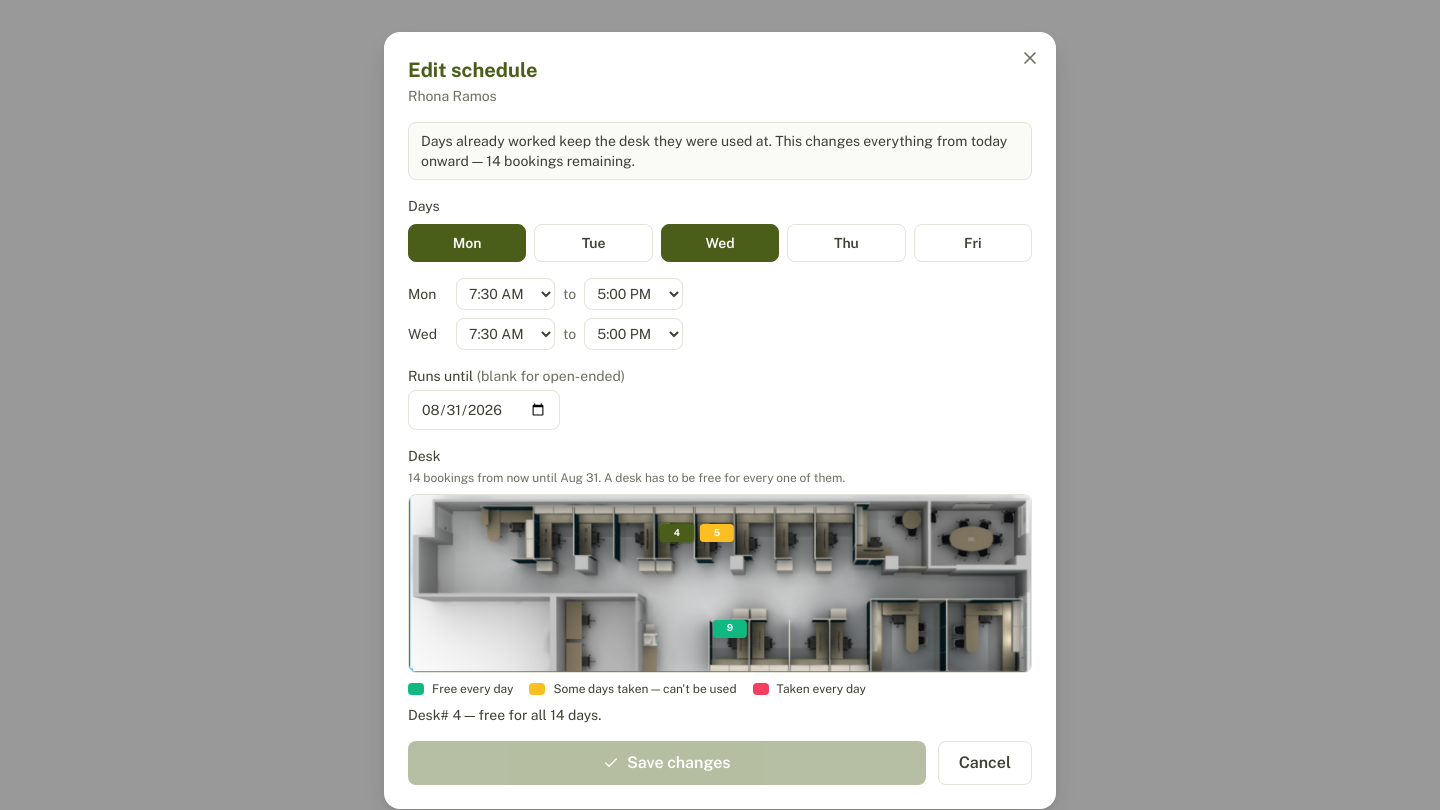
Test: dropping every weekday leaves nothing to save
Click the button "Mon": x=467, y=243 [408, 224, 526, 262]
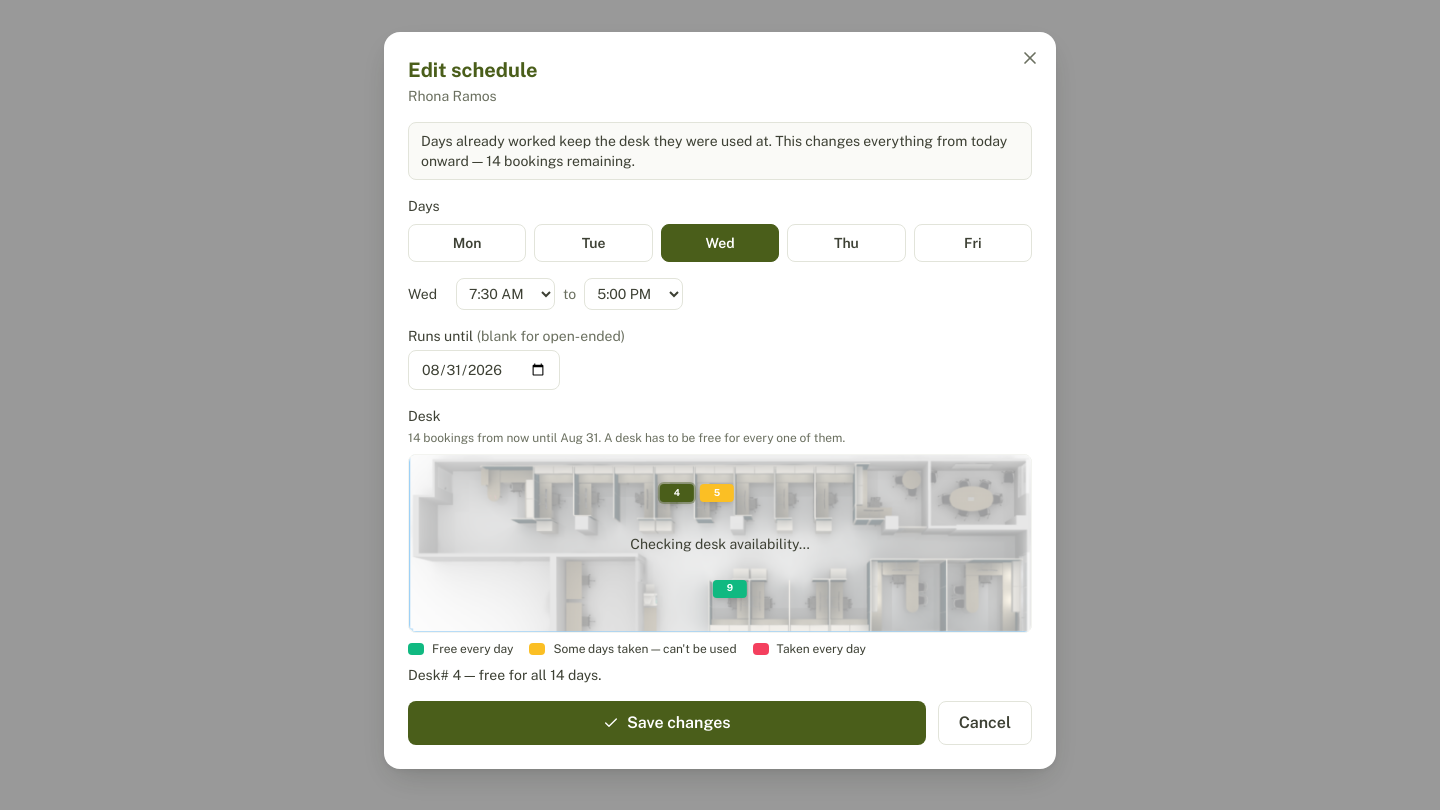
Click the button "Wed": x=720, y=243 [661, 224, 779, 262]
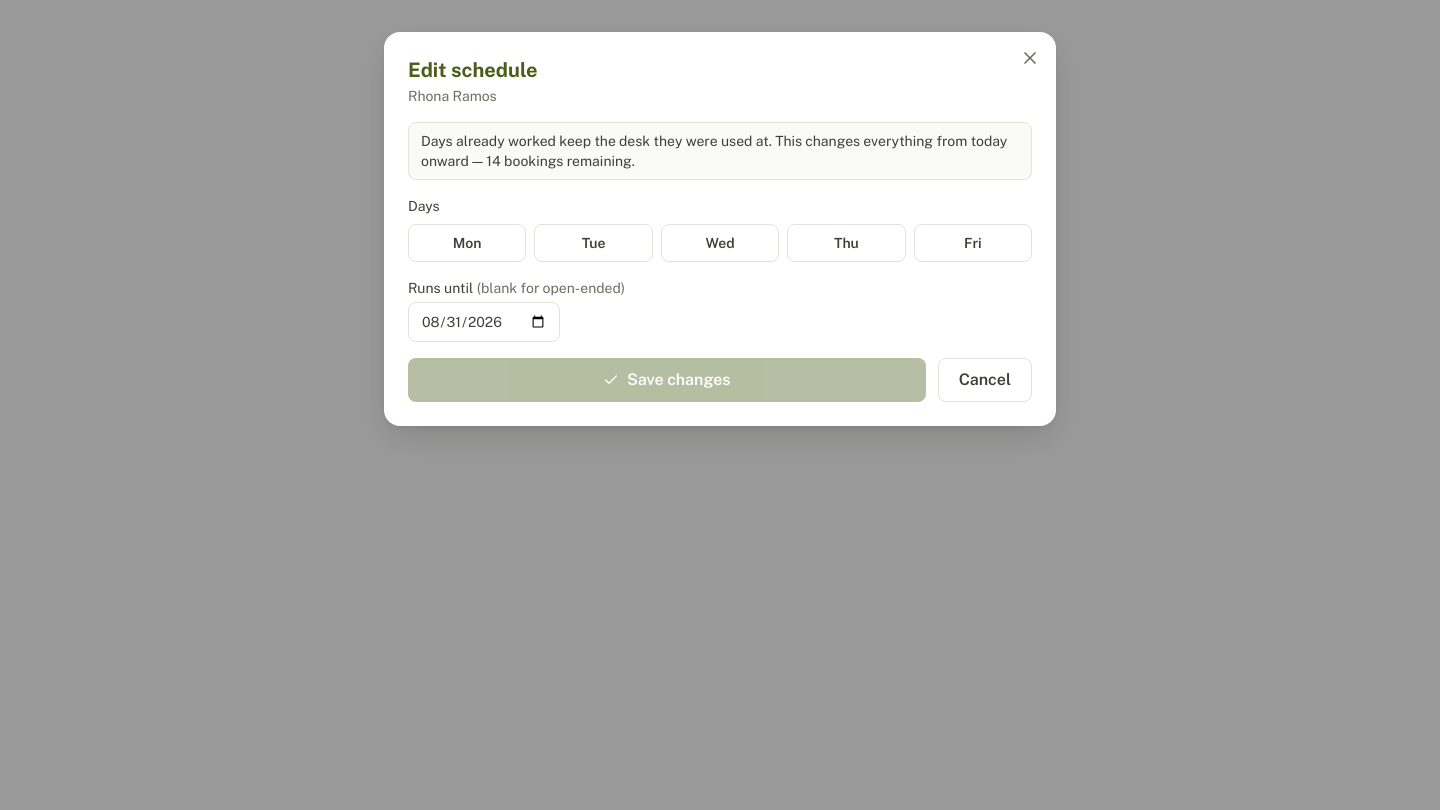
expect the button "Save changes" is disabled: met, box [408, 358, 926, 402]
